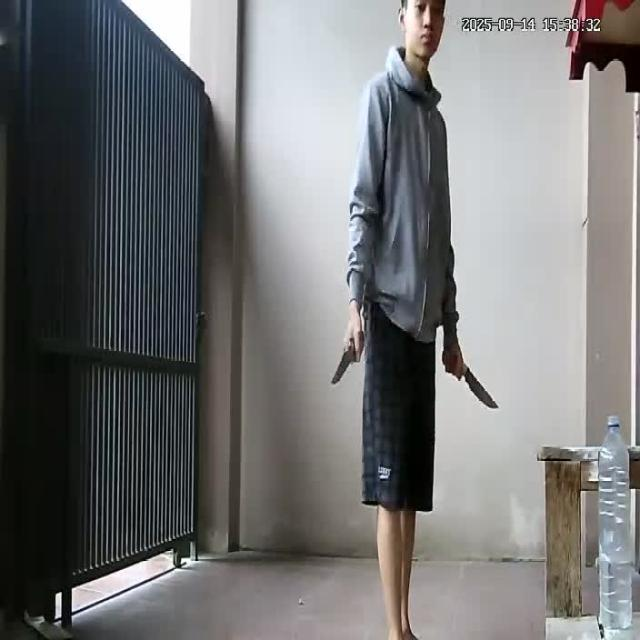senjata_tajam: (463, 365, 501, 409)
